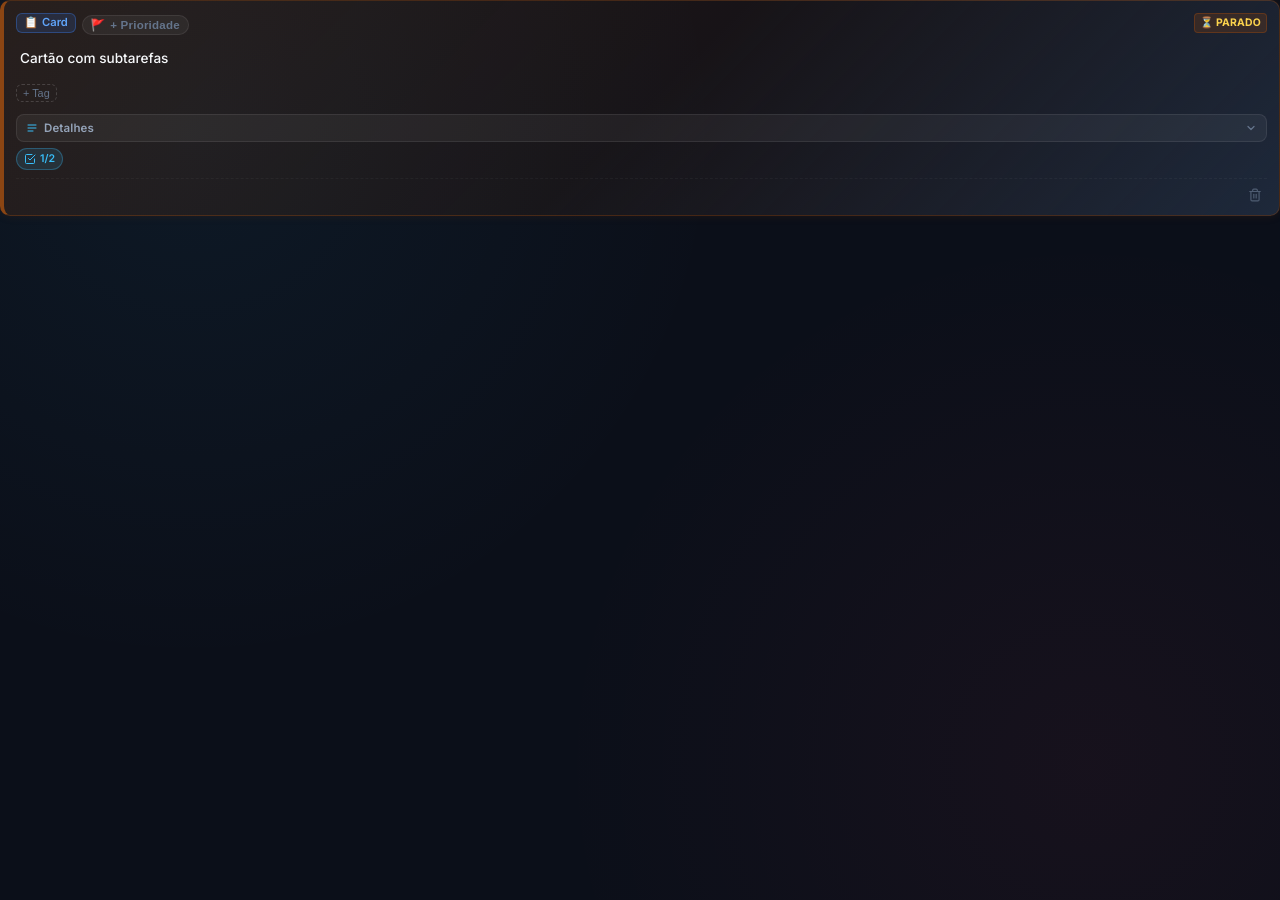
Test case: Task — subtarefas inline (US1 / T005) › shows the derived progress counter
Click the button "Detalhes" at (69, 128), box x1=16 y1=114 x2=1267 y2=142
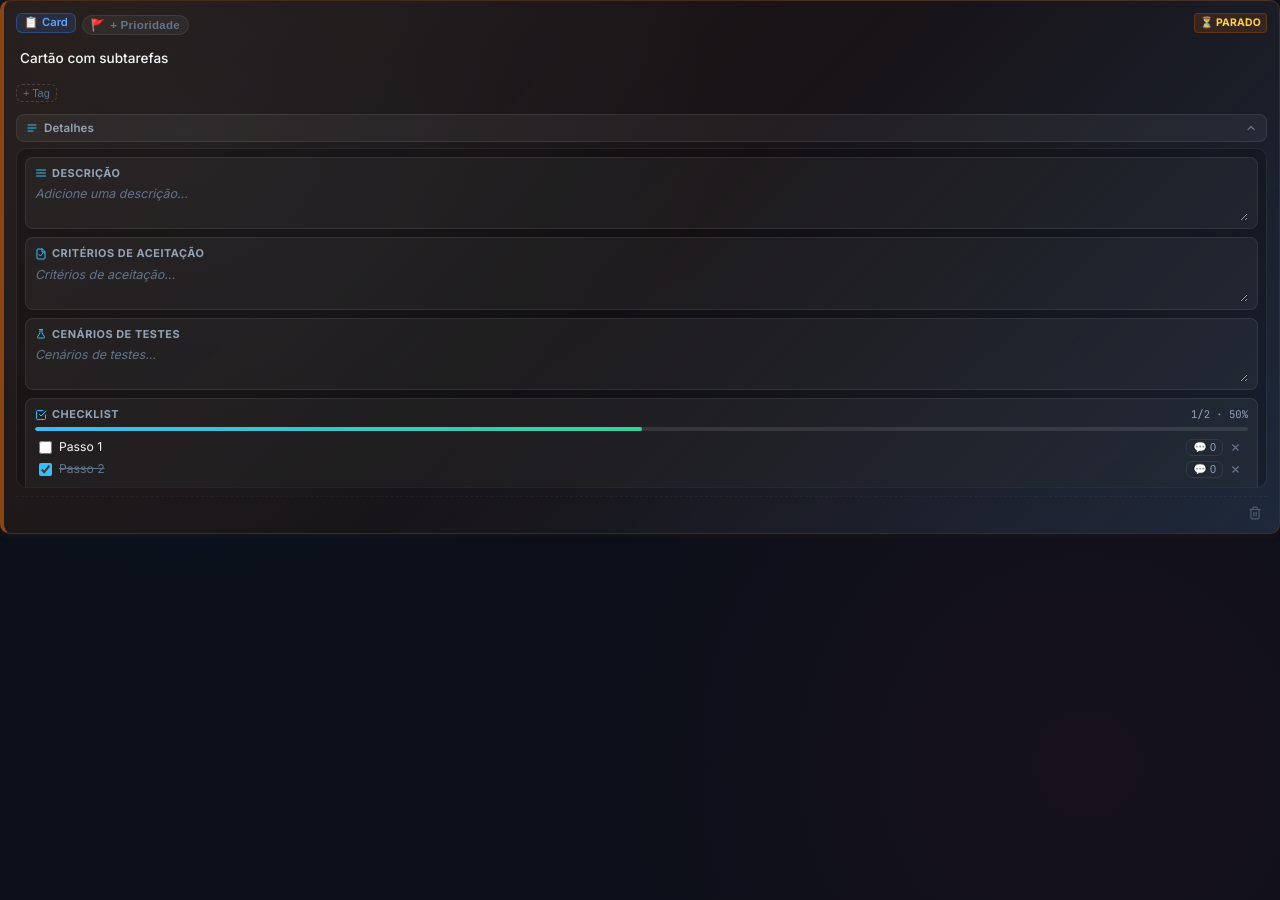
Check: the text "1/2 · 50%" is shown, box x1=1191 y1=407 x2=1248 y2=422
